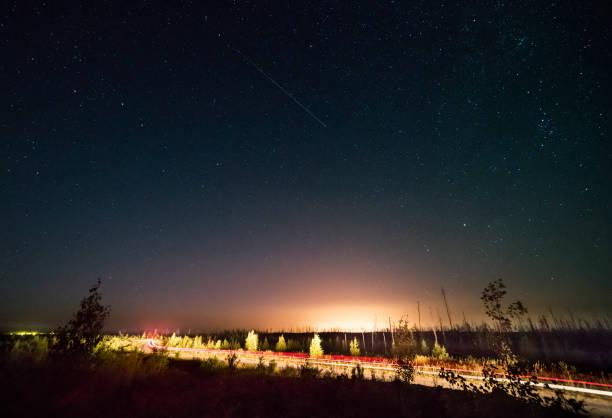meteor: (313, 114, 334, 136)
